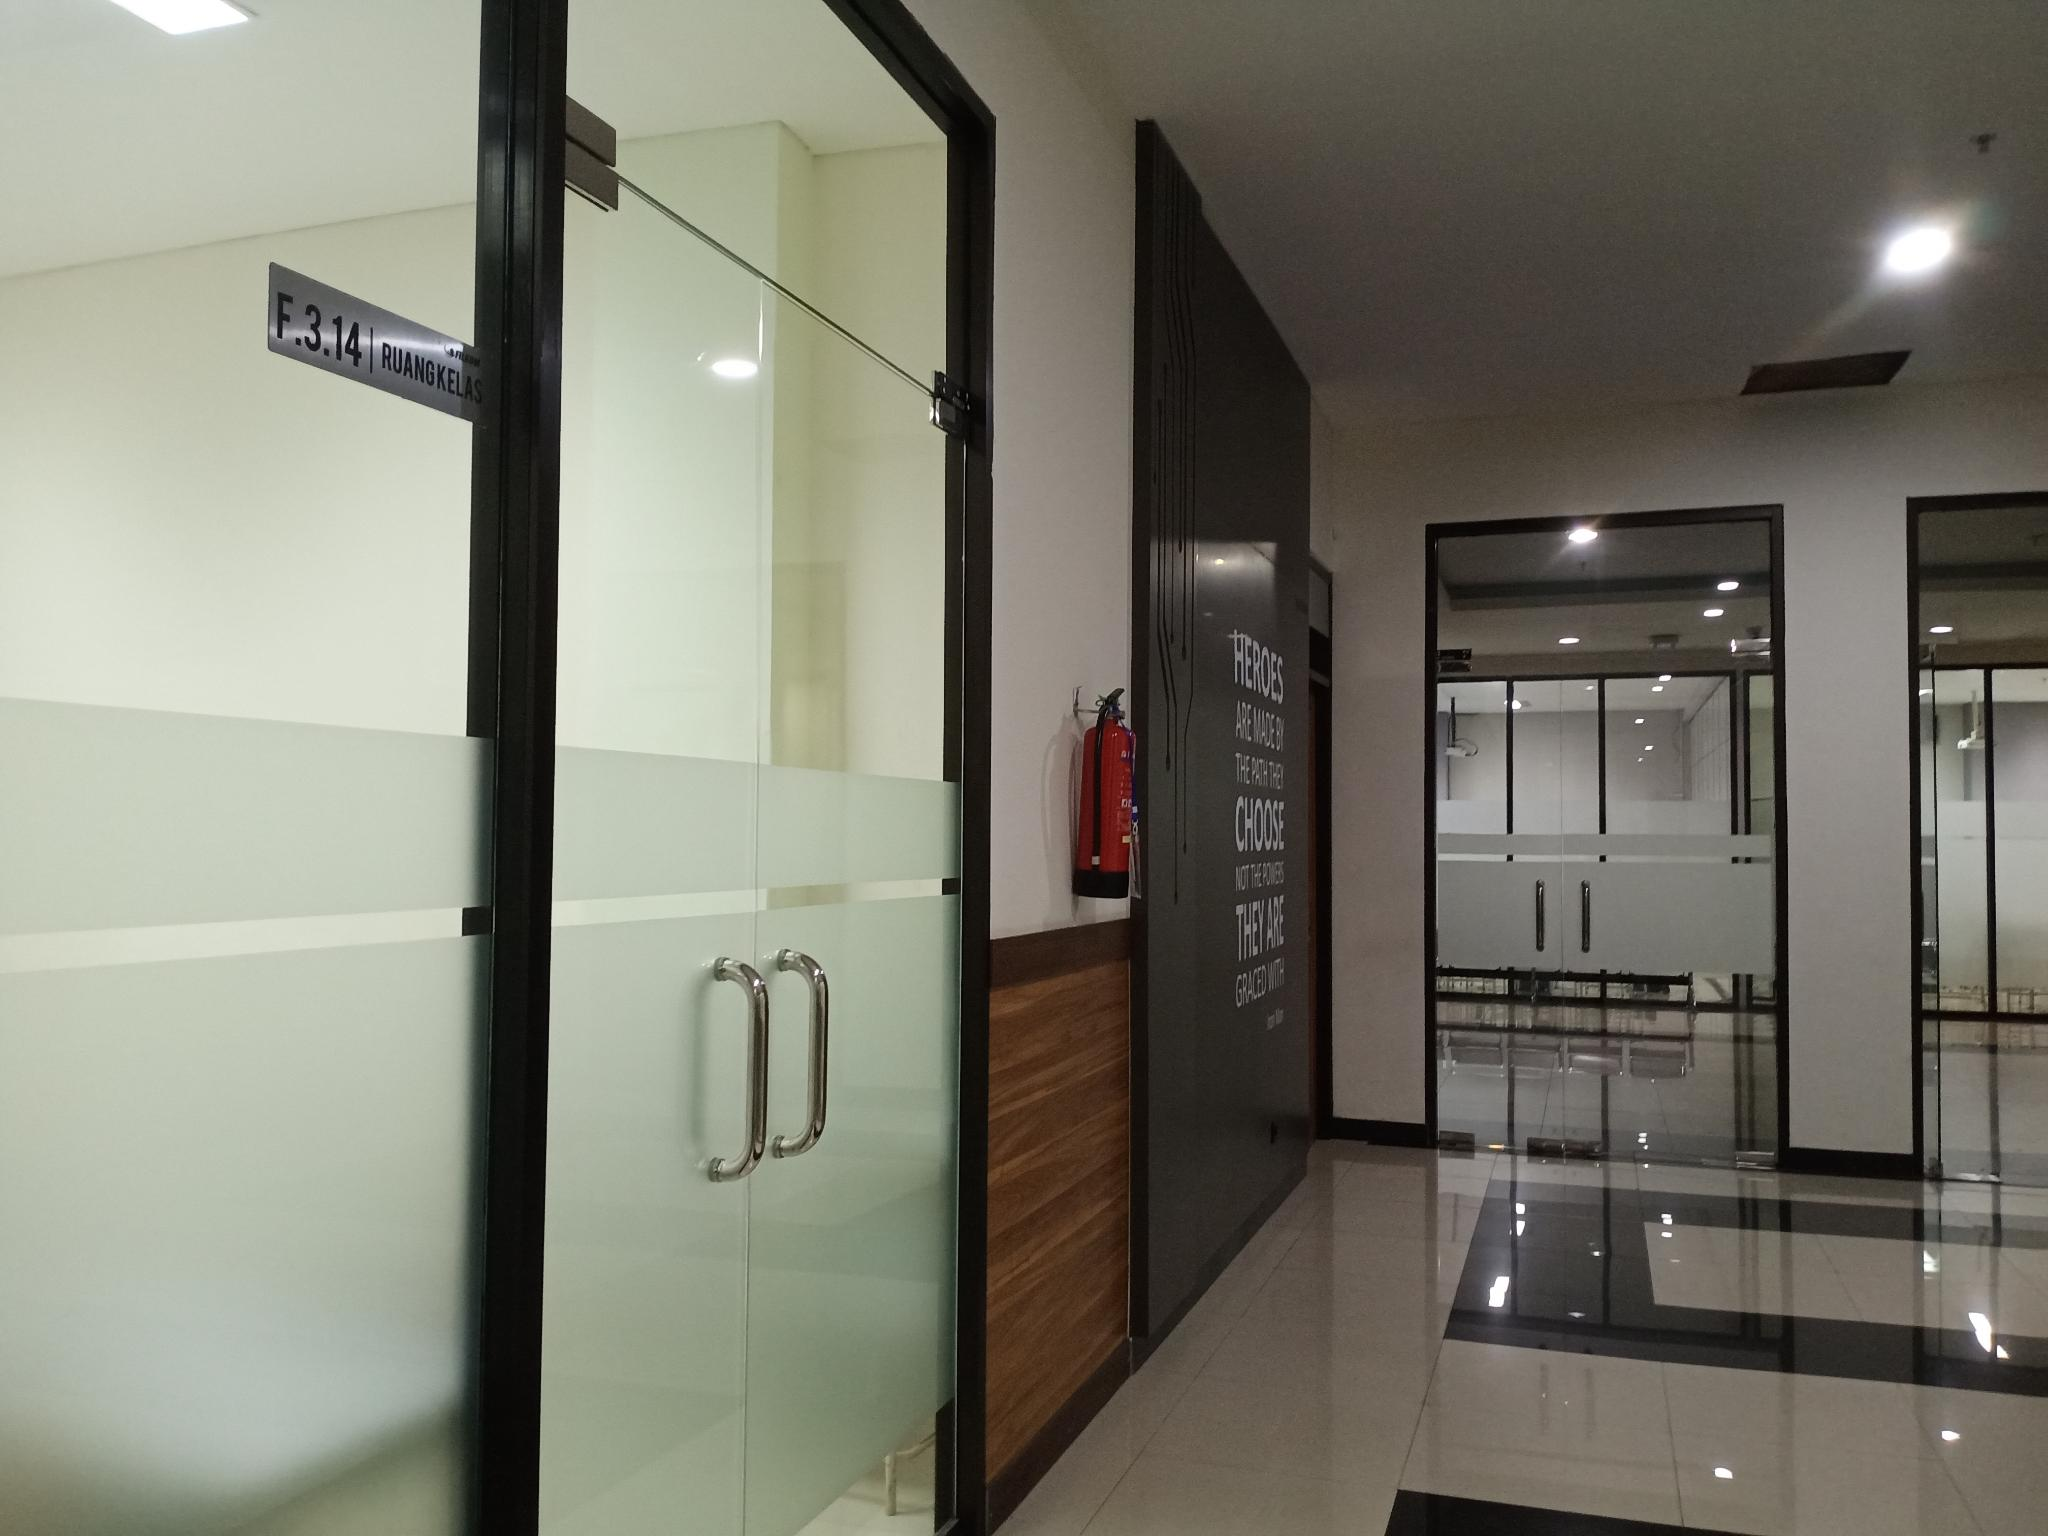plate: (266, 263, 492, 428)
